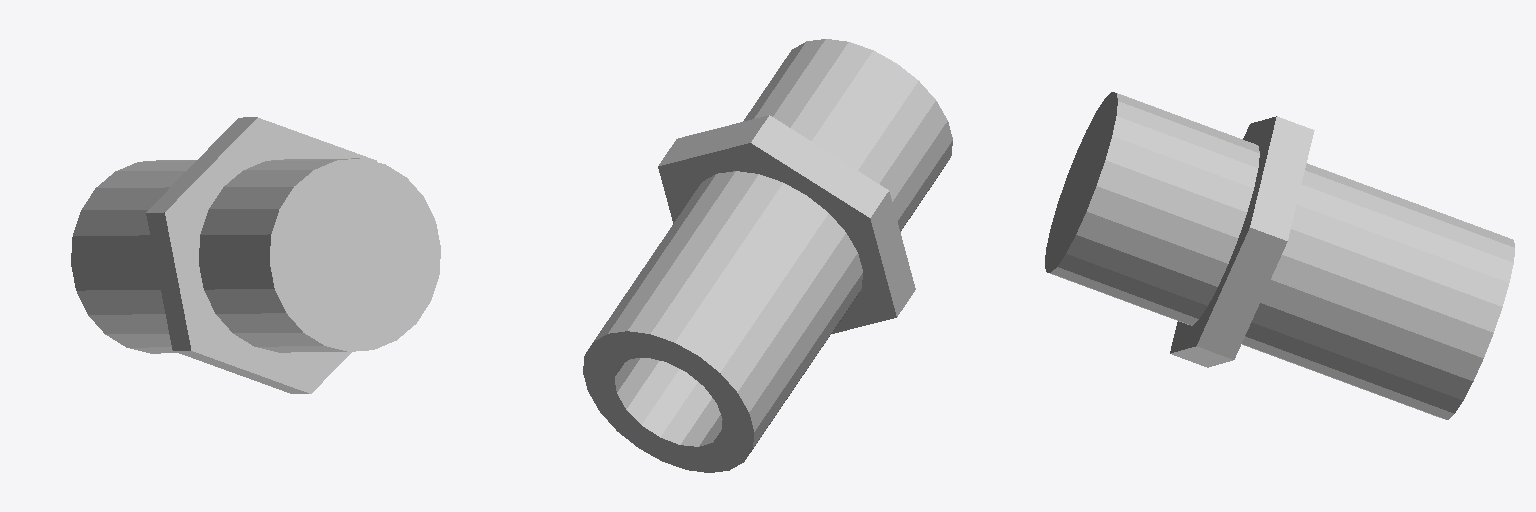
File: Штуцер крепления масляного фильтра.obj
3 views of the same model, side by side, from view 1: azimuth 30°, elevation 25°; view 2: azimuth 150°, elevation 25°; view 3: azimuth 270°, elevation 25° (orthographic).
Parts seen in each view (by area): view 1: Штуцер_крепления_масляного_фильтр; view 2: Штуцер_крепления_масляного_фильтр; view 3: Штуцер_крепления_масляного_фильтр.
Part boxes in pixels (x1,y1,x2,y2): Штуцер_крепления_масляного_фильтр: (71, 117, 440, 393); Штуцер_крепления_масляного_фильтр: (583, 39, 952, 472); Штуцер_крепления_масляного_фильтр: (1045, 92, 1514, 419).
Bounding box in the file's own units: 24 × 33.46 × 46.07.